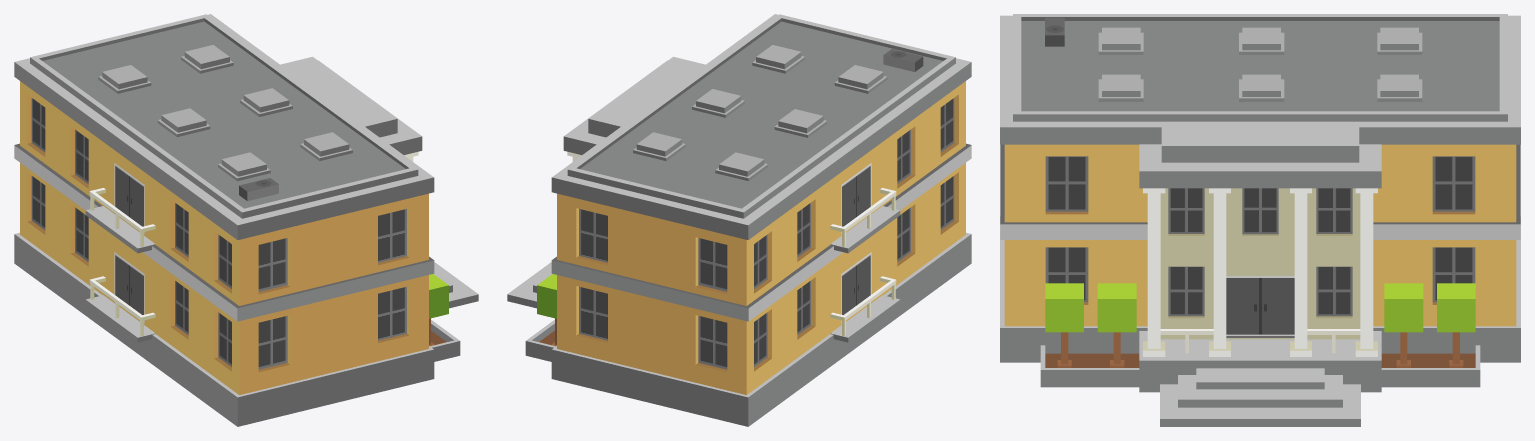
Rendered from TownHall2.glb.
3 renders of one model, left to right at view 1: azimuth 30°, elevation 25°; view 2: azimuth 150°, elevation 25°; view 3: azimuth 270°, elevation 25°, orthographic. The views are drawn at different scales.
Visible parts, largest first — view 1: town_hall_mesh; view 2: town_hall_mesh; view 3: town_hall_mesh.
Boxes of the visible parts, <box> form: town_hall_mesh: <box>14,14,478,426</box>; town_hall_mesh: <box>507,14,971,426</box>; town_hall_mesh: <box>1000,14,1520,426</box>.
Bounding box in the file's own units: 0.2347 × 0.1481 × 0.28.
Materials: 1 (1 with a texture image).
